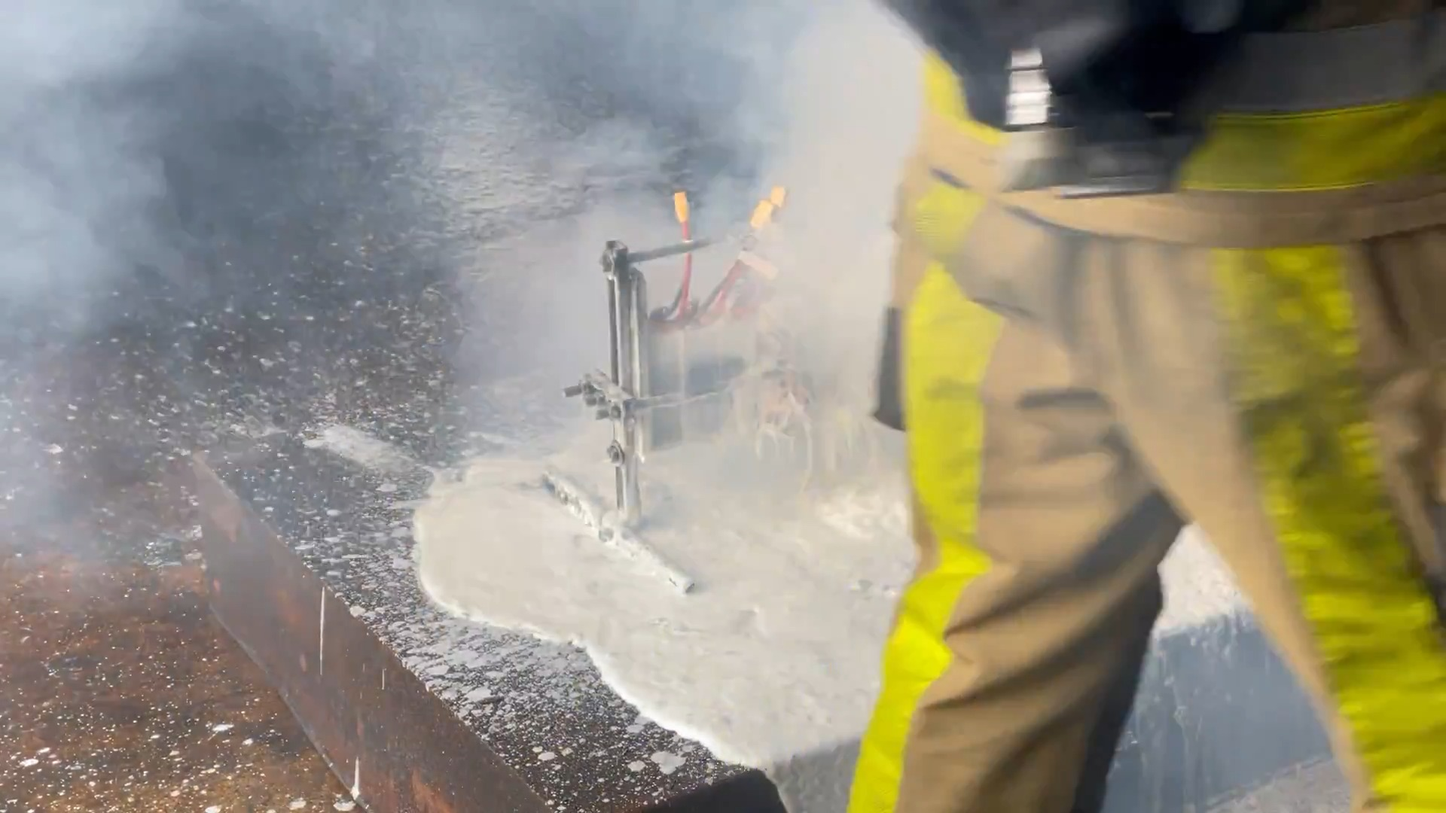smoke: (10, 8, 961, 647)
